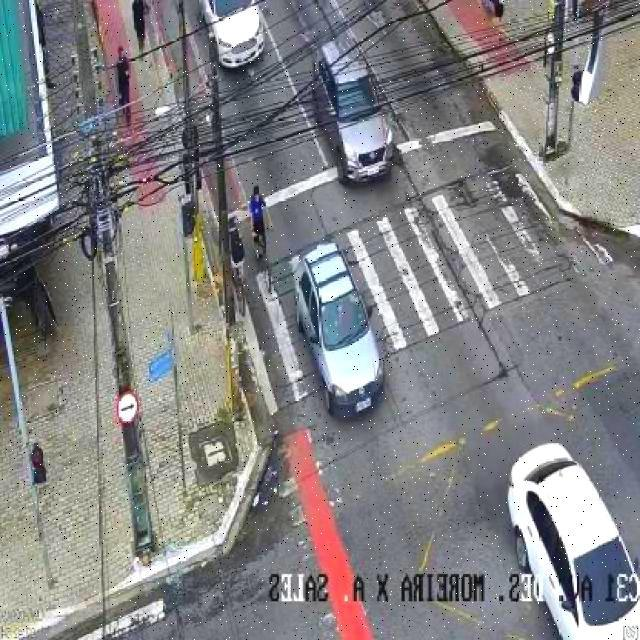Car: (499, 434, 639, 640), (285, 235, 384, 428), (305, 41, 403, 184), (188, 0, 280, 70)
Cycle: (227, 153, 295, 276)
